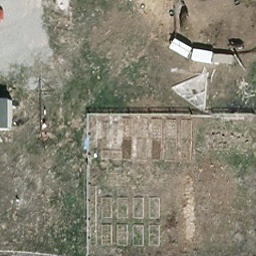car: (0, 4, 3, 20)
